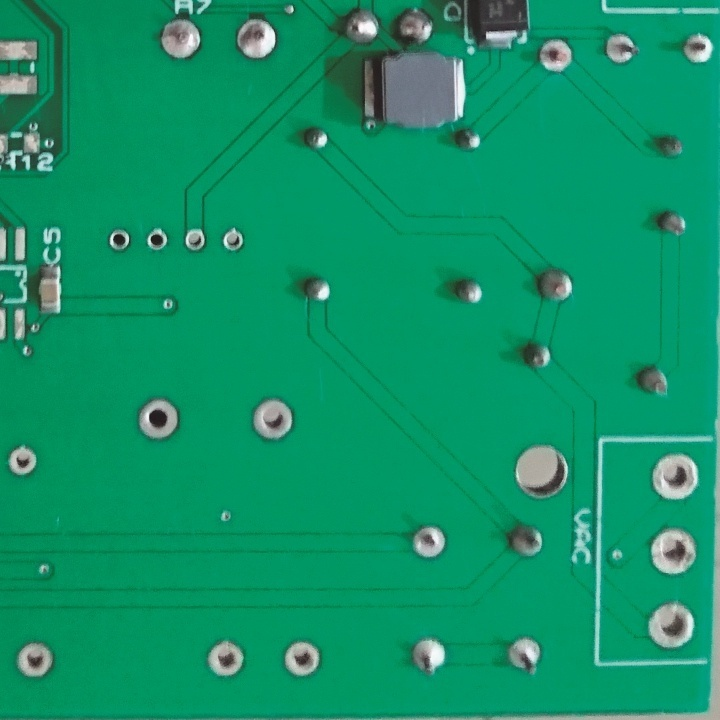F: (649, 600, 699, 649), (250, 395, 299, 444), (650, 452, 696, 501), (647, 531, 699, 574), (156, 19, 208, 62), (133, 396, 183, 440), (234, 18, 281, 63), (206, 638, 248, 680), (282, 638, 323, 679), (504, 635, 544, 675), (407, 637, 446, 677), (16, 640, 56, 678), (538, 36, 575, 75), (411, 523, 449, 559), (602, 32, 640, 66), (681, 32, 714, 69), (6, 446, 43, 478), (106, 226, 134, 252), (143, 228, 169, 255), (183, 227, 210, 252), (220, 227, 245, 254)
